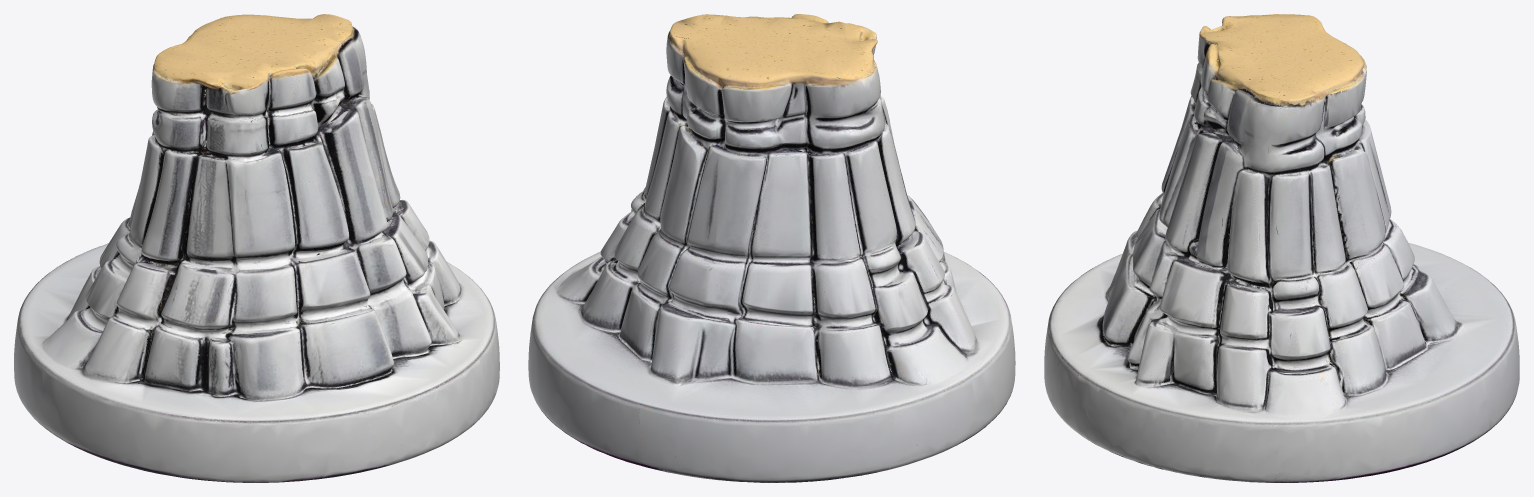
Rendered from devils_tower.glb.
3 views of the same model, side by side, from view 1: azimuth 30°, elevation 25°; view 2: azimuth 150°, elevation 25°; view 3: azimuth 270°, elevation 25° (orthographic). The views are drawn at different scales.
Parts seen in each view (by area): view 1: Mesh_0; view 2: Mesh_0; view 3: Mesh_0.
Boxes of the visible parts, x1,y1,x2,y2 form: Mesh_0: (14,14,499,482); Mesh_0: (528,14,1015,482); Mesh_0: (1044,14,1519,482).
Size of the model in its own units: 1.9 by 1.47 by 1.9.
Materials: 1 (1 with a texture image).
